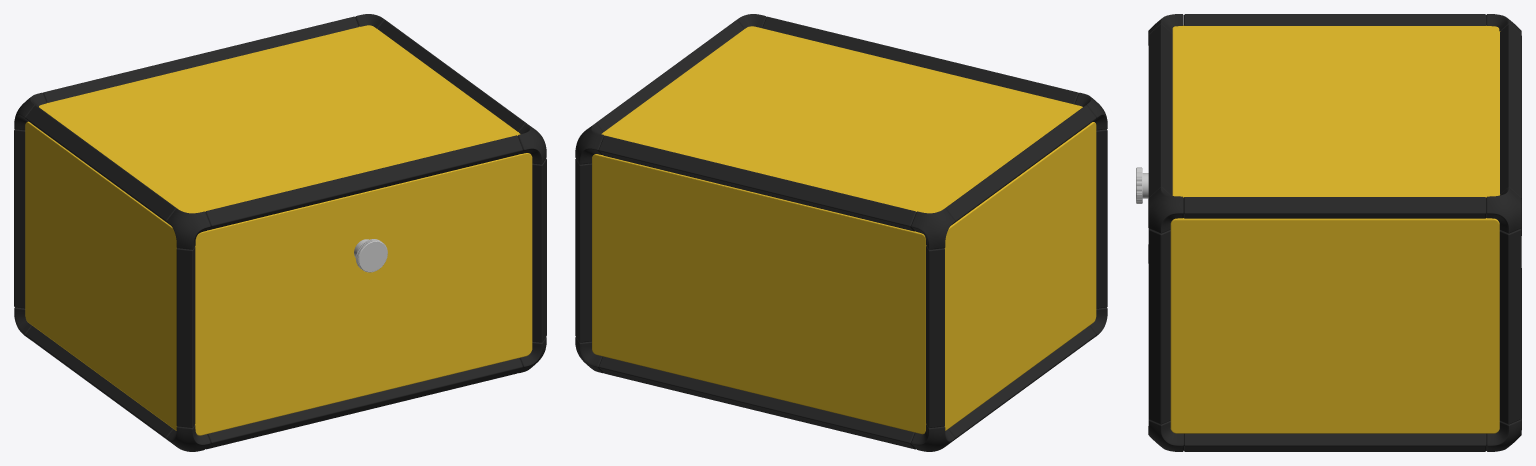
3 views of the same model, side by side, from view 1: azimuth 30°, elevation 25°; view 2: azimuth 150°, elevation 25°; view 3: azimuth 270°, elevation 25° (orthographic). The views are drawn at different scales.
Parts seen in each view (by area): view 1: 420x329x229; view 2: 420x329x229; view 3: 420x329x229.
Part boxes in pixels (<box>): 420x329x229: <box>14,14,546,451</box>; 420x329x229: <box>575,14,1107,451</box>; 420x329x229: <box>1136,14,1521,451</box>.
Bounding box in the file's own units: 0.4977 × 0.3066 × 0.4196.
